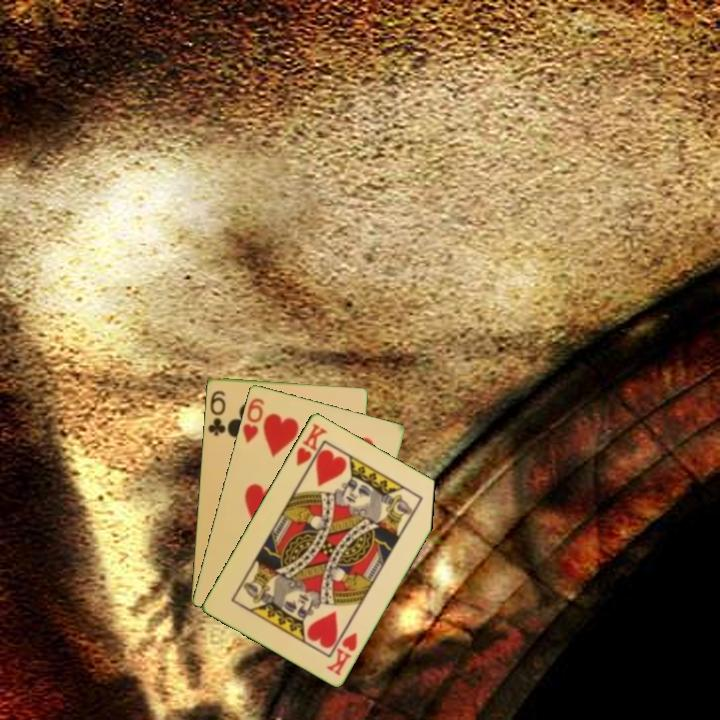6c: (204, 387, 228, 438)
6h: (239, 394, 267, 446)
Kh: (292, 419, 330, 476), (323, 628, 360, 678)
